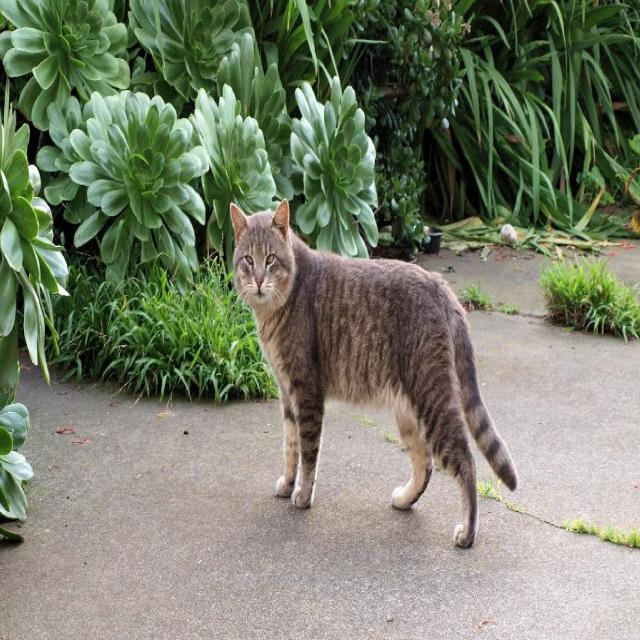Cat: (230, 196, 518, 548)
